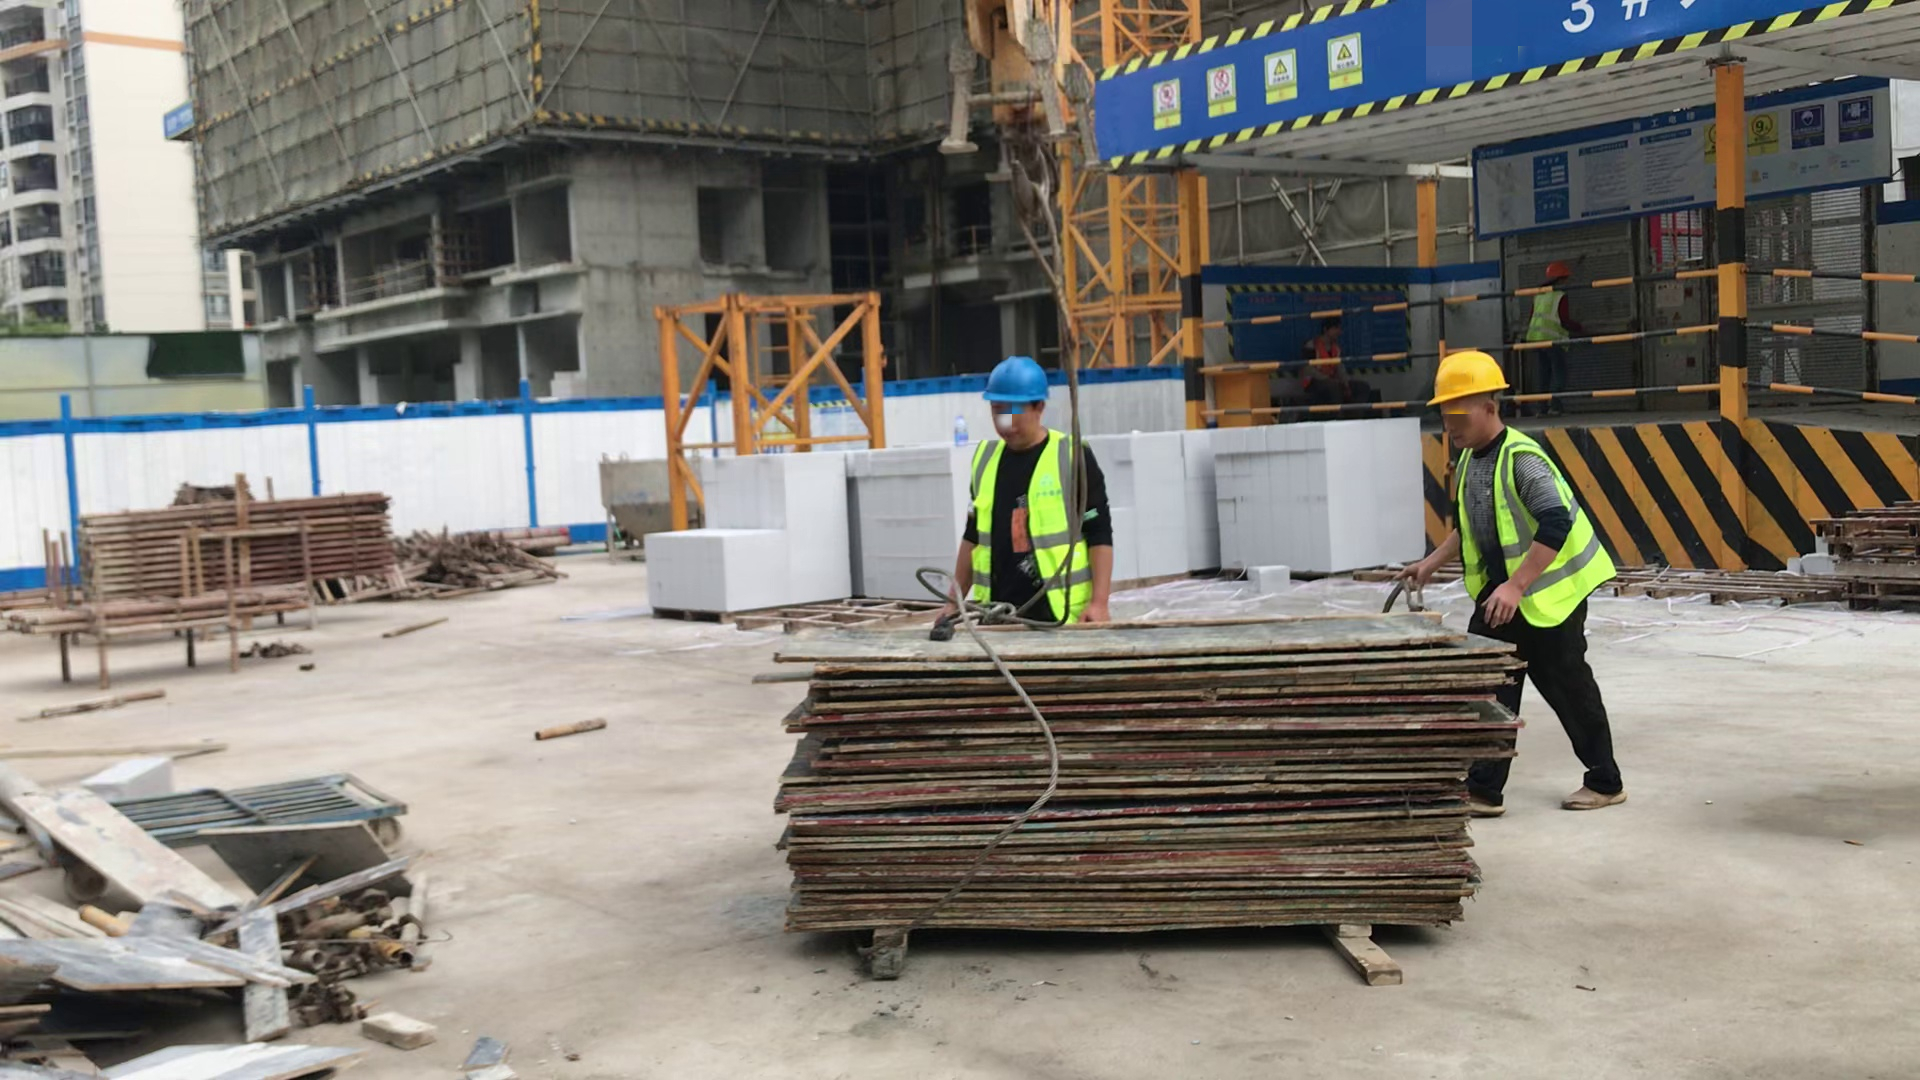board: (775, 625, 1512, 954)
brick: (647, 444, 961, 614), (1108, 418, 1427, 573)
ebox: (1212, 359, 1271, 426)
handcart: (41, 771, 406, 859)
helmet: (1427, 348, 1516, 413), (976, 354, 1058, 414), (1547, 263, 1574, 283)
hook: (943, 1, 1082, 219)
hopper: (591, 455, 706, 537)
person: (1422, 344, 1635, 814), (957, 352, 1117, 626), (1522, 255, 1584, 416), (1303, 311, 1376, 407)
scaffold: (67, 495, 401, 612)
slogan: (1147, 35, 1369, 138), (151, 105, 207, 139)
vest: (1451, 439, 1612, 620), (968, 435, 1095, 618), (1528, 290, 1573, 352), (1310, 337, 1342, 379)
